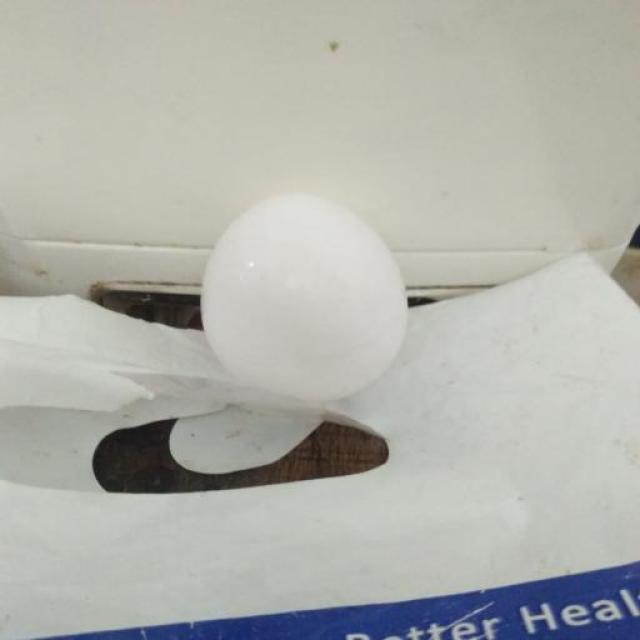telur: (194, 188, 413, 412)
